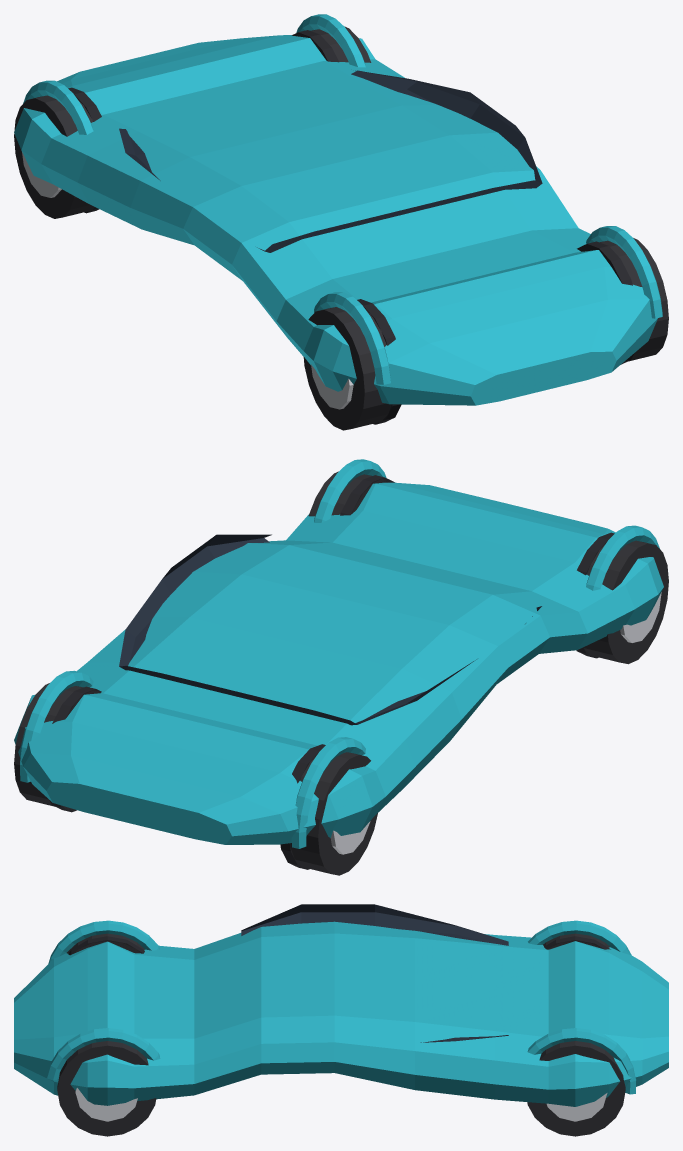
File: sport.glb
The picture shows the model from 3 angles, top to bottom: view 1: azimuth 30°, elevation 25°; view 2: azimuth 150°, elevation 25°; view 3: azimuth 270°, elevation 25°; orthographic projection. The views are drawn at different scales.
Parts seen in each view (by area): view 1: body, glass_canopy, wheel_front_tyre.001, wheel_rear_tyre.001, body_arch.001, body_arch, wheel_front_tyre, body_arch.003, body_arch.002, wheel_front_rim.001, wheel_front_well, wheel_front_well.001 (+1 smaller); view 2: body, glass_canopy, wheel_rear_tyre.001, wheel_front_tyre.001, body_arch.003, body_arch.002, wheel_rear_tyre, body_arch.001, body_arch, wheel_front_tyre, wheel_front_rim.001, wheel_rear_well.001 (+1 smaller); view 3: body, glass_canopy, wheel_front_tyre, wheel_rear_tyre, body_arch, body_arch.002, body_arch.001, body_arch.003, wheel_front_rim, wheel_rear_rim, wheel_front_tyre.001, wheel_front_well.001 (+1 smaller).
Boxes of the visible parts, x1,y1,x2,y2 form: body: [14, 35, 657, 405]; glass_canopy: [119, 70, 542, 252]; wheel_front_tyre.001: [303, 307, 391, 430]; wheel_rear_tyre.001: [14, 95, 94, 218]; body_arch.001: [314, 292, 390, 384]; body_arch: [586, 226, 662, 318]; wheel_front_tyre: [578, 238, 668, 361]; body_arch.003: [23, 80, 93, 134]; body_arch.002: [296, 14, 365, 67]; wheel_front_rim.001: [311, 364, 353, 409]; wheel_front_well: [577, 241, 634, 364]; wheel_front_well.001: [357, 299, 401, 424]; body: [14, 482, 663, 844]; glass_canopy: [119, 534, 541, 725]; wheel_rear_tyre.001: [290, 752, 377, 875]; wheel_front_tyre.001: [583, 540, 668, 664]; body_arch.003: [291, 737, 365, 848]; body_arch.002: [20, 670, 93, 782]; wheel_rear_tyre: [14, 683, 101, 810]; body_arch.001: [586, 525, 659, 590]; body_arch: [314, 459, 386, 522]; wheel_front_tyre: [308, 471, 390, 516]; wheel_front_rim.001: [620, 592, 661, 642]; wheel_rear_well.001: [280, 744, 325, 869]; body: [14, 921, 668, 1106]; glass_canopy: [241, 904, 508, 1042]; wheel_front_tyre: [57, 1041, 156, 1136]; wheel_rear_tyre: [527, 1041, 625, 1136]; body_arch: [47, 1028, 160, 1080]; body_arch.002: [527, 1028, 636, 1094]; body_arch.001: [48, 920, 160, 963]; body_arch.003: [528, 920, 631, 954]; wheel_front_rim: [75, 1088, 137, 1121]; wheel_rear_rim: [546, 1093, 607, 1121]; wheel_front_tyre.001: [67, 933, 144, 953]; wheel_front_well.001: [68, 936, 144, 955].
Bounding box in the file's own units: 2.16 × 0.8666 × 4.31.
